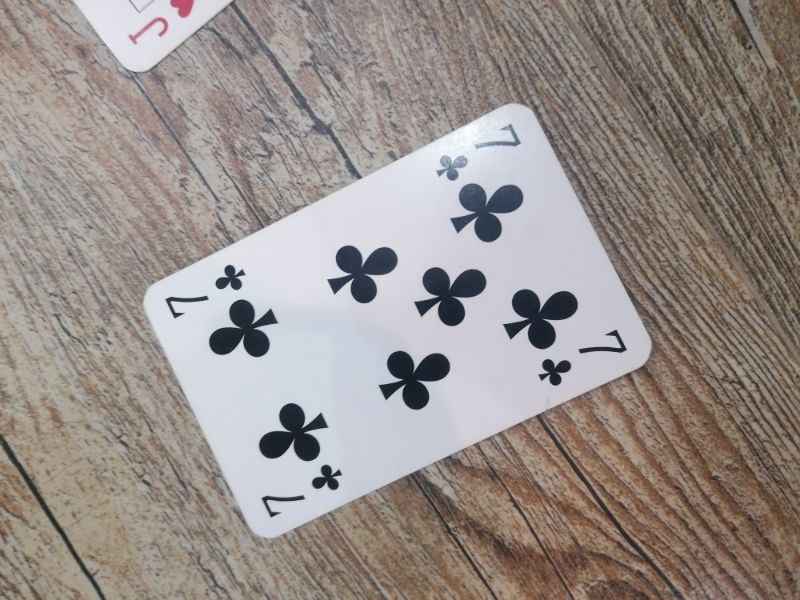7c: (535, 327, 630, 389), (431, 120, 524, 182), (161, 260, 251, 322), (258, 461, 346, 523)
Jh: (122, 1, 202, 61)
